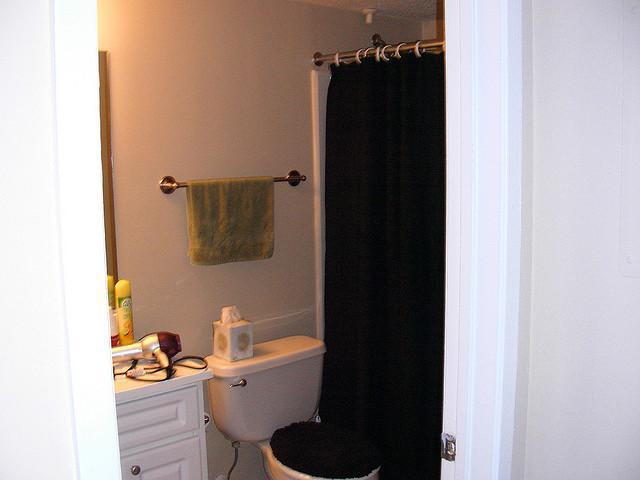Ducha: (316, 59, 492, 473)
Sanitario: (205, 336, 385, 474)
